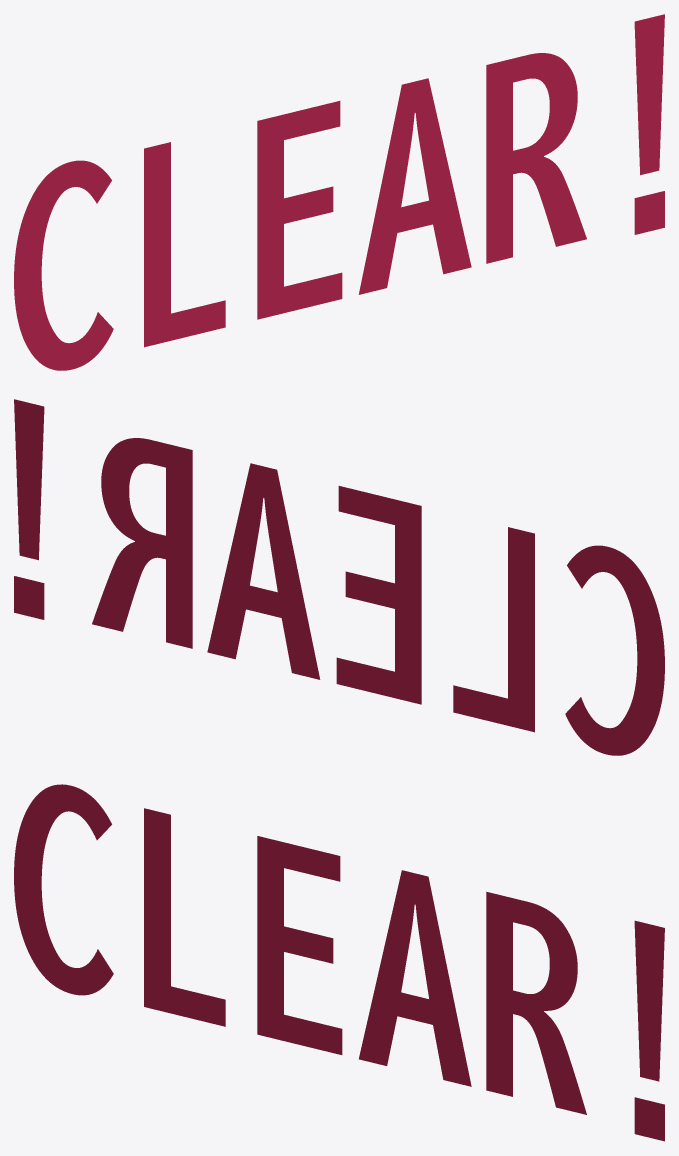
Rendered from clearText.obj.
The picture shows the model from 3 angles, top to bottom: view 1: azimuth 30°, elevation 25°; view 2: azimuth 150°, elevation 25°; view 3: azimuth 330°, elevation 25°; orthographic projection.
Parts seen in each view (by area): view 1: テキスト; view 2: テキスト; view 3: テキスト.
Boxes of the visible parts, x1,y1,x2,y2 form: テキスト: [14, 14, 664, 370]; テキスト: [14, 399, 664, 755]; テキスト: [14, 784, 664, 1141].
Bounding box in the file's own units: 2.78 × 0.8701 × 0.
